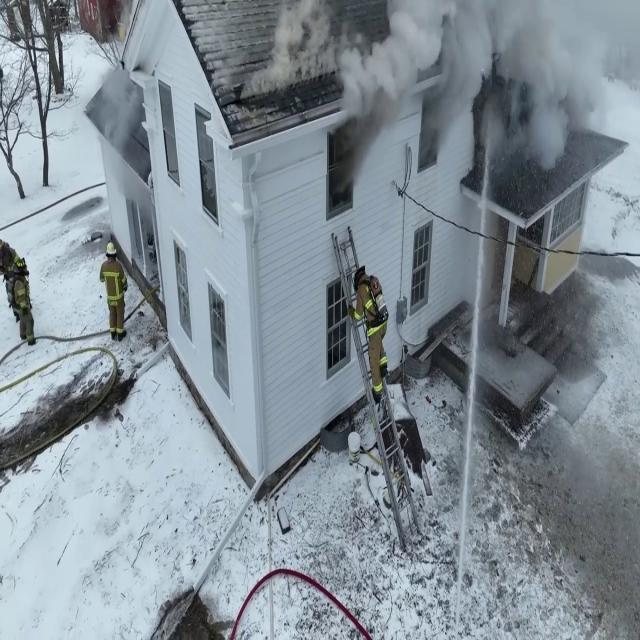Smoke: (257, 0, 639, 156)
